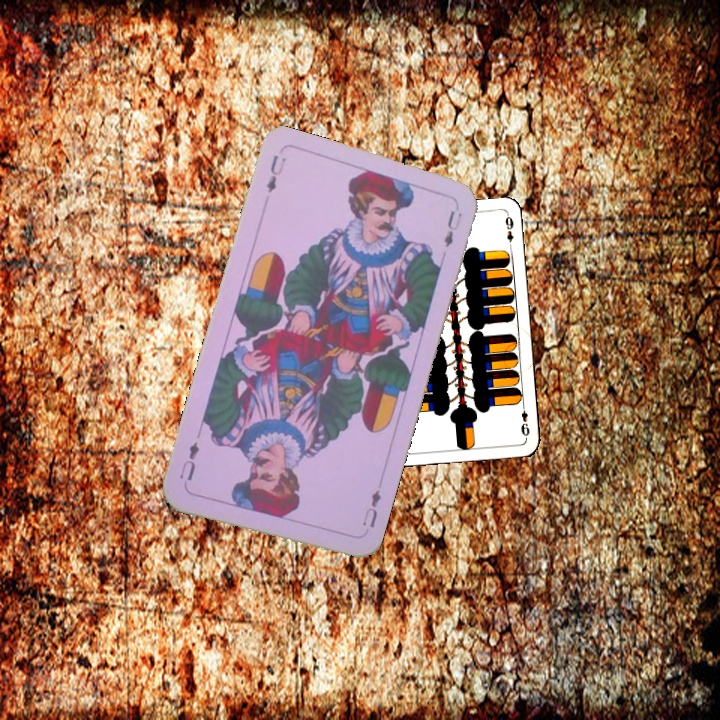E9: (517, 400, 532, 438)
EU: (358, 485, 384, 531), (262, 151, 288, 195)
